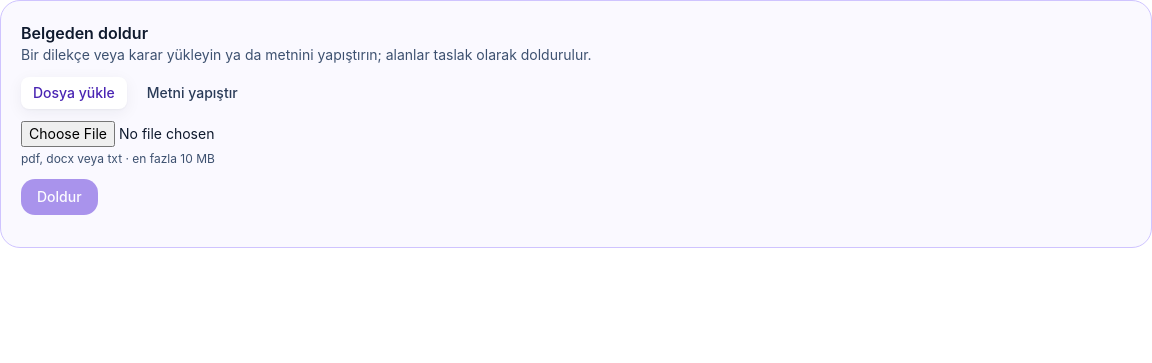
Test: IntakeFillBox › keeps Doldur disabled until there is a file or text
Expected: the heading "Belgeden doldur" is shown, [21,23,148,43]
Expected: the button "Doldur" is disabled, [21,179,98,215]
Click the tab "Metni yapıştır".
click(192, 93)  # box [135,77,250,109]
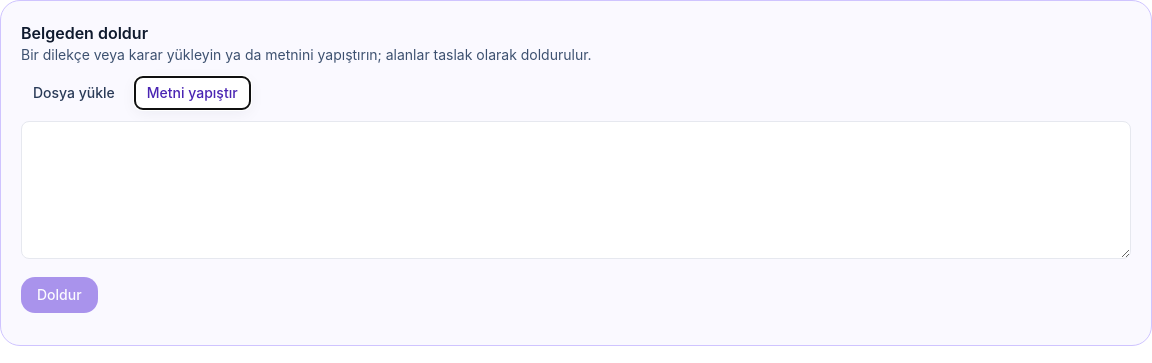
Expected: the button "Doldur" is disabled, [21,277,98,313]
Type "metin" into the text box named "Belge metni".
click(576, 190); type("metin")  # box [21,121,1131,259]
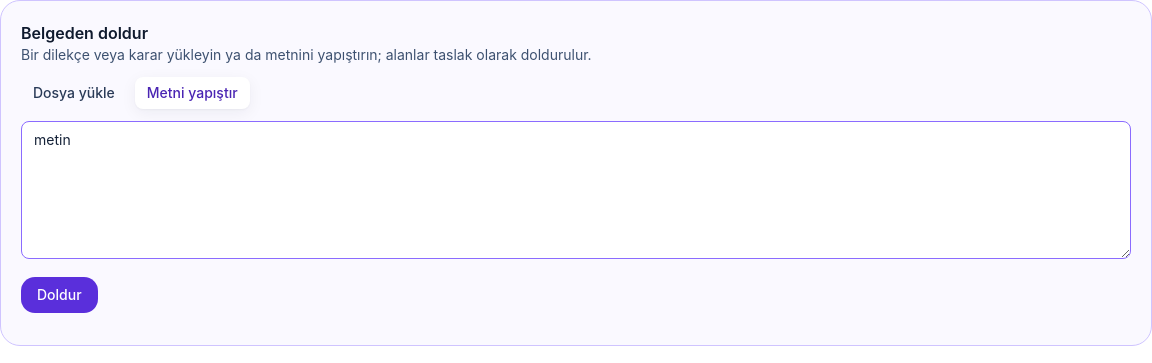
Result: the button "Doldur" is enabled at [21,277,98,313]
